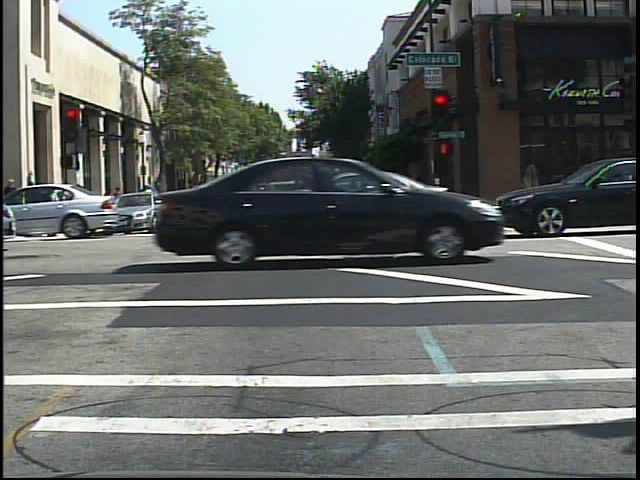person: (139, 181, 155, 215), (136, 181, 151, 213)
